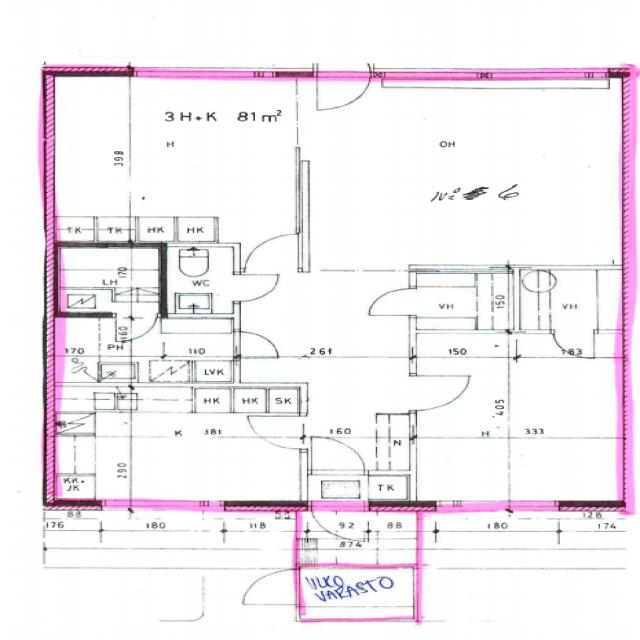door: (316, 31, 371, 76), (316, 67, 371, 111), (312, 499, 365, 543), (409, 374, 470, 410), (245, 234, 298, 272), (312, 435, 364, 473), (250, 416, 307, 449), (245, 568, 300, 602), (116, 312, 158, 343), (368, 288, 415, 315), (554, 329, 594, 359), (234, 274, 280, 300), (234, 331, 277, 355)
